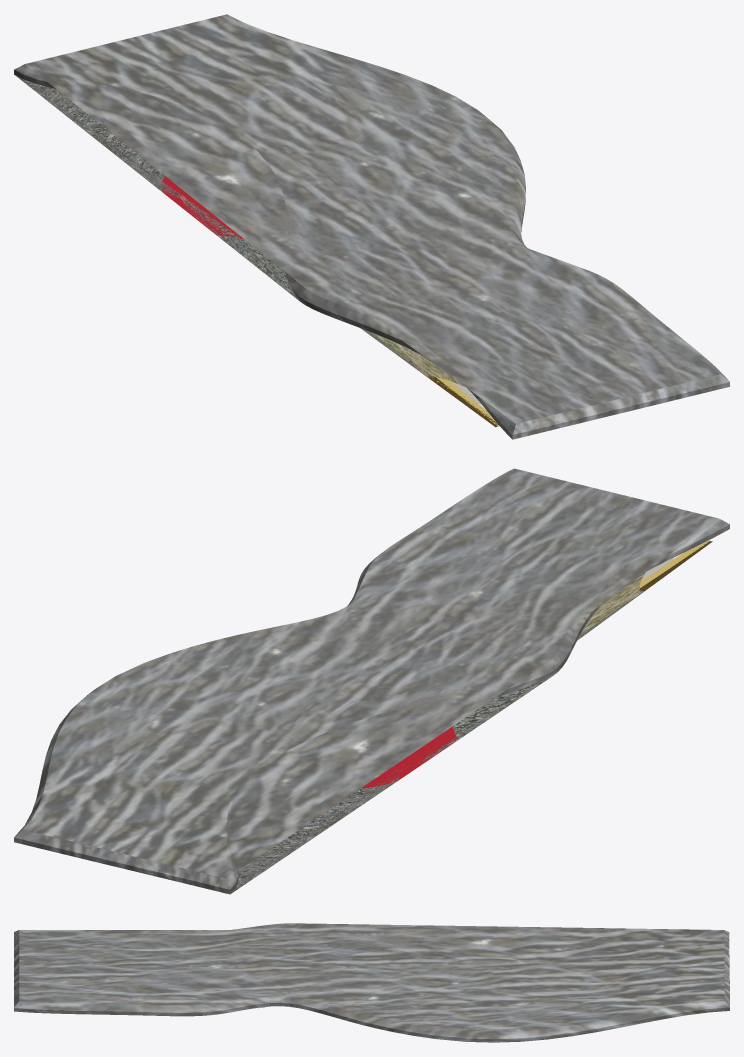
The model's file is cf_ta_stream.obj.
3 views of the same model, one above another, from view 1: azimuth 30°, elevation 25°; view 2: azimuth 150°, elevation 25°; view 3: azimuth 270°, elevation 25° (orthographic). The views are drawn at different scales.
Parts seen in each view (by area): view 1: BezierCurve.002_Mesh; view 2: BezierCurve.002_Mesh; view 3: BezierCurve.002_Mesh.
Boxes of the visible parts, <box> form: BezierCurve.002_Mesh: <box>14,14,729,439</box>; BezierCurve.002_Mesh: <box>14,468,729,894</box>; BezierCurve.002_Mesh: <box>14,923,729,1042</box>.
Bounding box in the file's own units: 5.81 × 0.1938 × 15.51.
